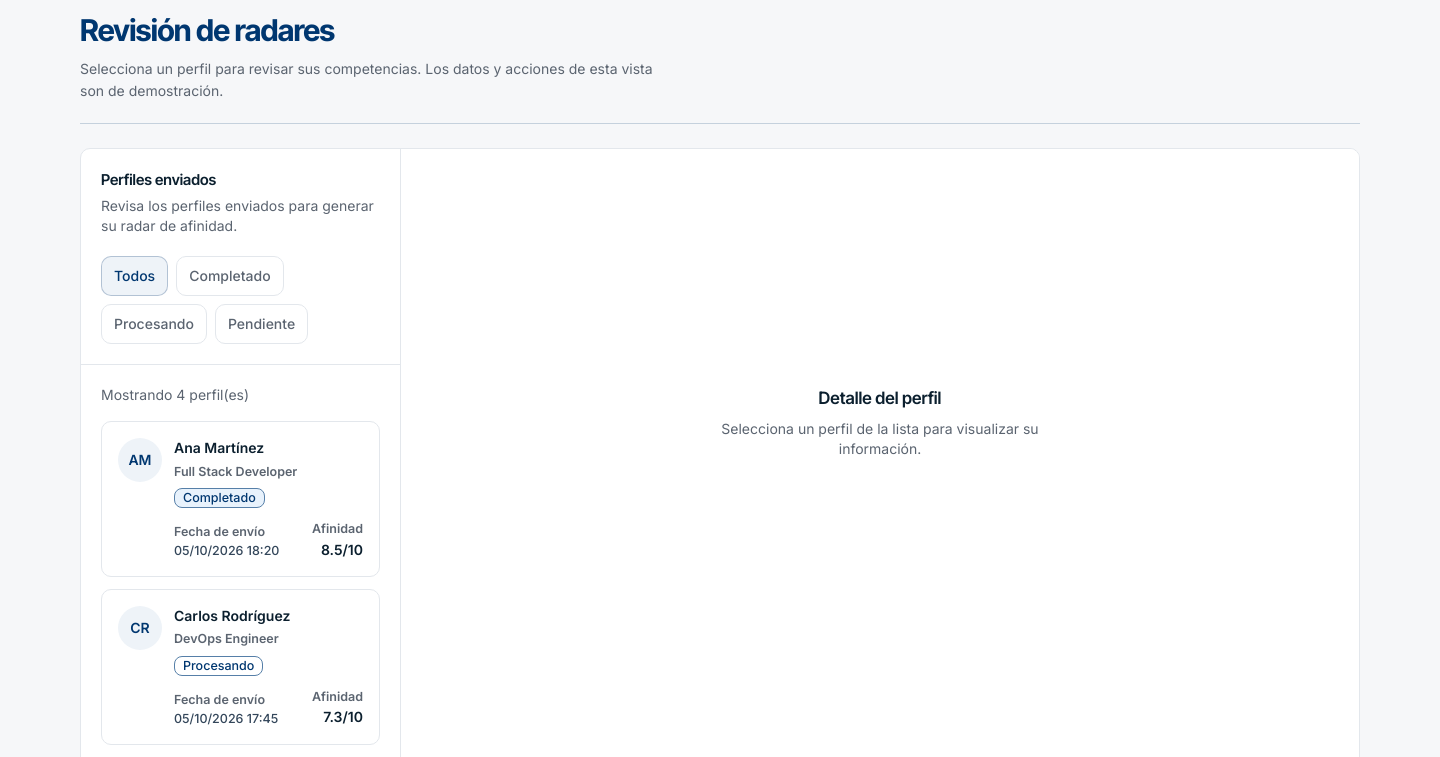
Test: ColaRevisionPage › filtra los perfiles en procesamiento
Click the button "Procesando" at (154, 324), box 101,304 -> 207,344
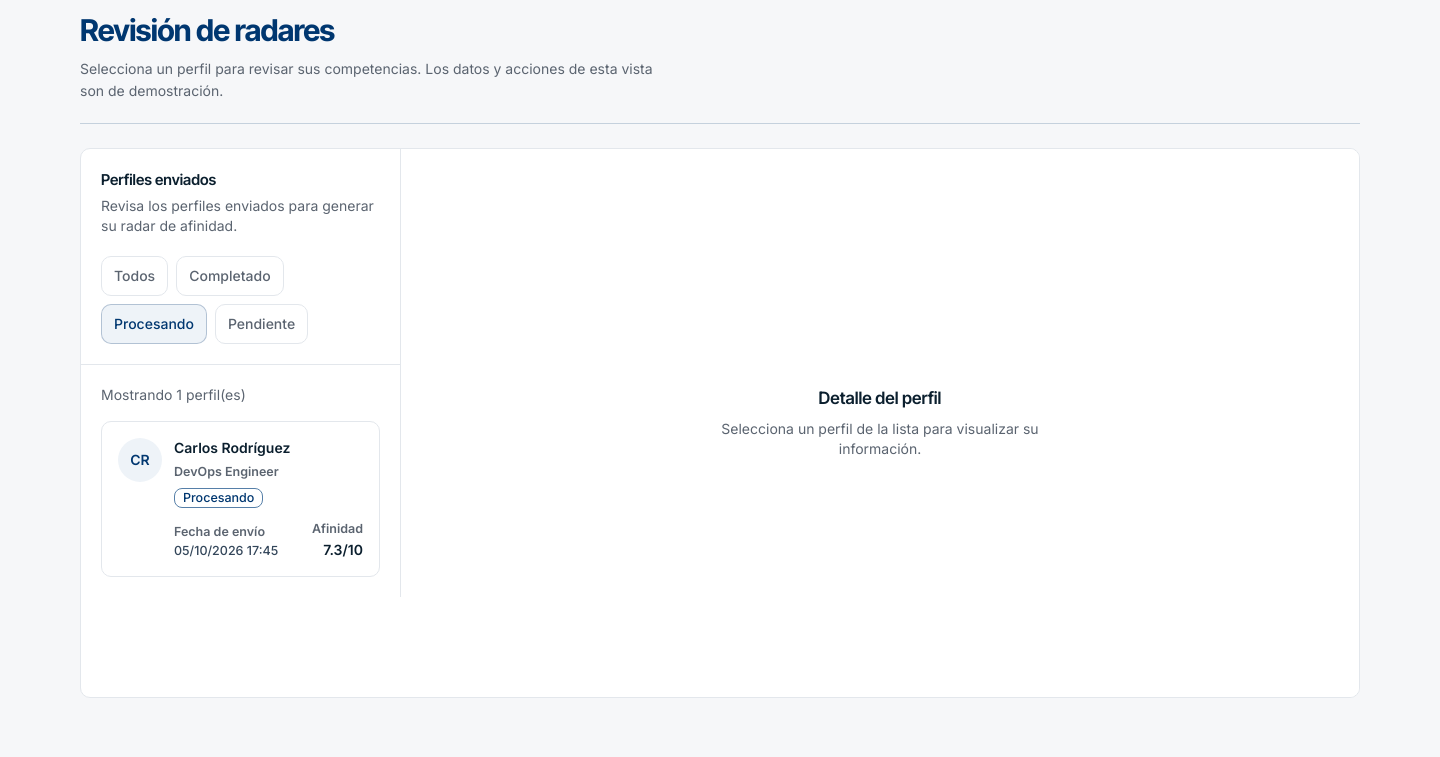
Expected: the text "Carlos Rodríguez" is shown, 174,438 -> 290,459
Expected: the button "Ana Martínez" is gone
Expected: the text "Mostrando 1 perfil(es)" is shown, 101,386 -> 246,403
